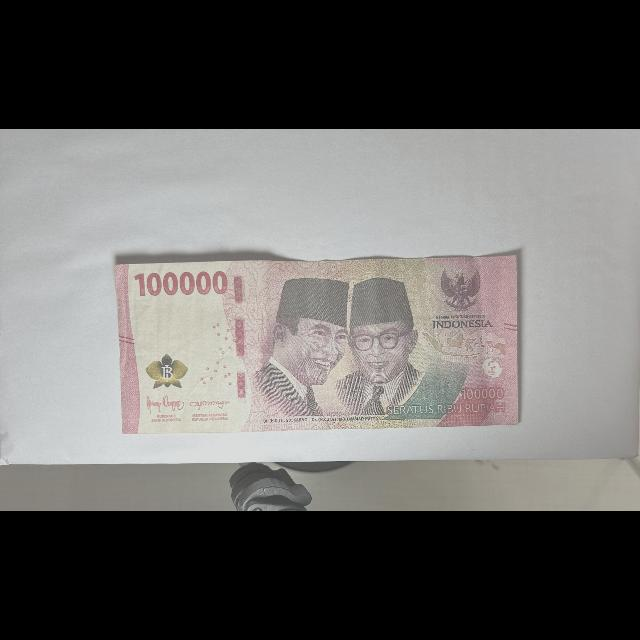Palsu-100k: (112, 254, 521, 436)
Tinta-Palsu-100k: (144, 353, 188, 389)
